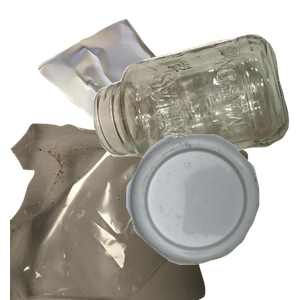glass: (91, 32, 300, 189)
paper: (35, 10, 237, 178)
plastic: (124, 132, 300, 300)
trash: (10, 120, 250, 300)
